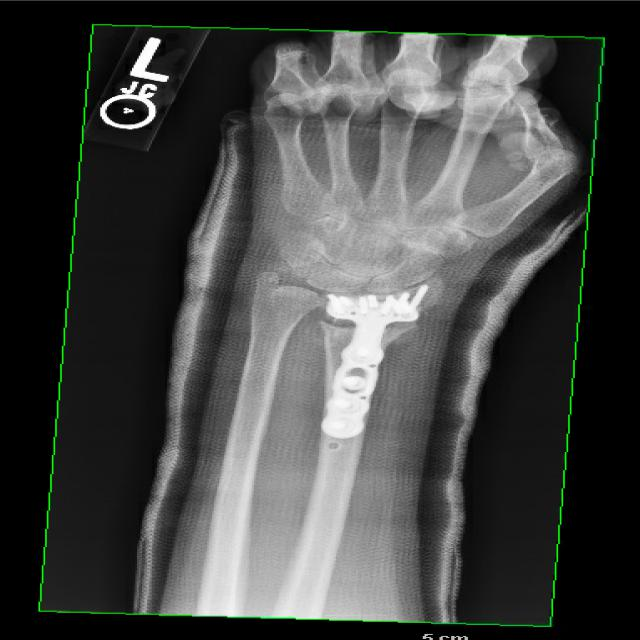x-ray: (314, 282, 435, 444)
